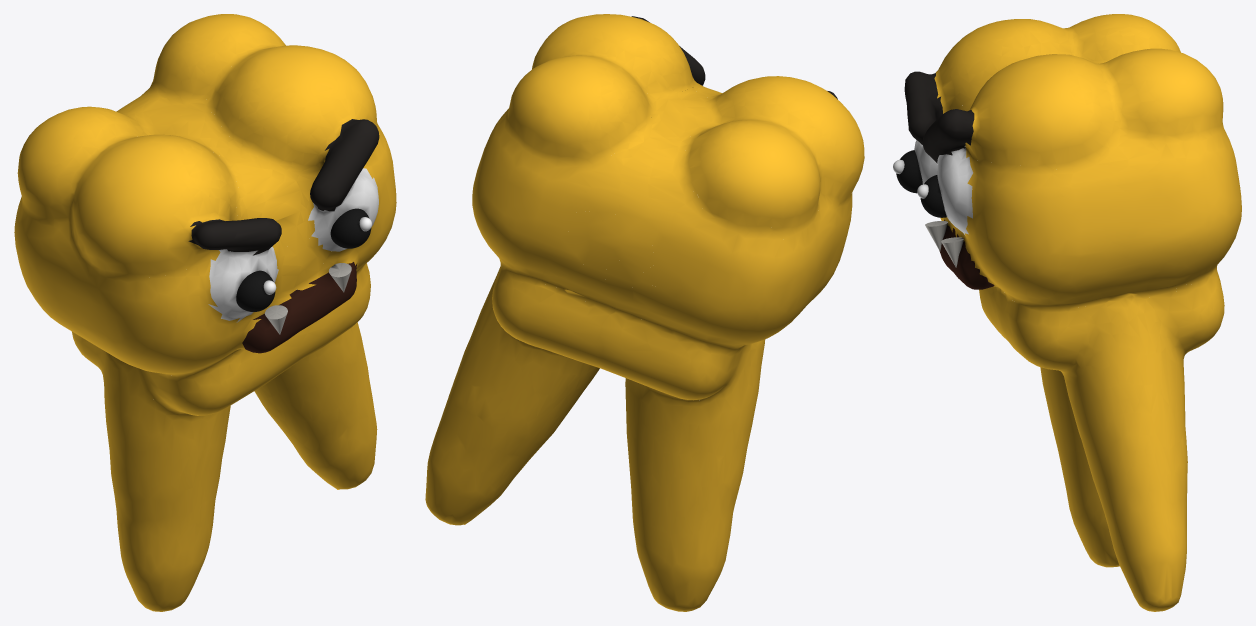
The model's file is jag-vill-lamna-tillbaka-den-har.glb.
3 renders of one model, left to right at view 1: azimuth 30°, elevation 25°; view 2: azimuth 150°, elevation 25°; view 3: azimuth 270°, elevation 25°, orthographic.
Visible parts, largest first — view 1: dente__r0, dente__r1, dente__r3; view 2: dente__r0; view 3: dente__r0, dente__r1, dente__r3.
Part boxes in pixels (x1=…): dente__r0: x1=14, y1=14, x2=396, y2=611; dente__r1: x1=236, y1=270, x2=275, y2=311; dente__r3: x1=330, y1=208, x2=371, y2=248; dente__r0: x1=425, y1=14, x2=864, y2=611; dente__r0: x1=904, y1=14, x2=1241, y2=611; dente__r1: x1=896, y1=150, x2=922, y2=193; dente__r3: x1=920, y1=175, x2=946, y2=217.
Bounding box in the file's own units: 0.7514 × 1.07 × 0.6186.
